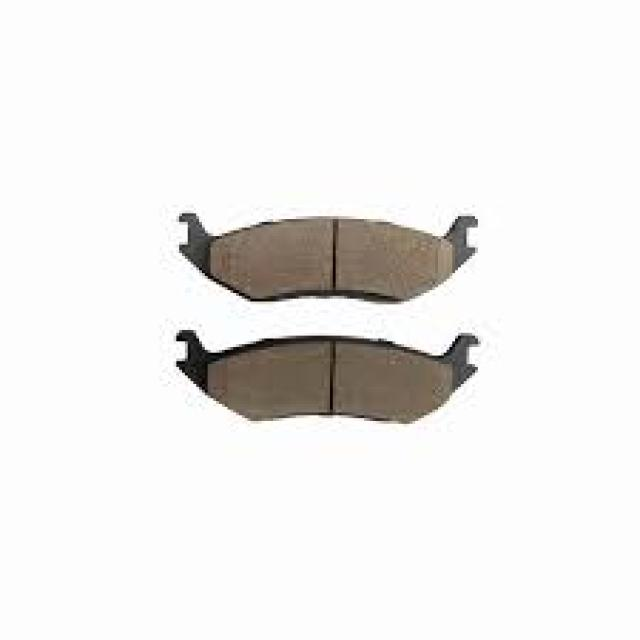brake_pad: (162, 319, 505, 438), (166, 196, 492, 310)
